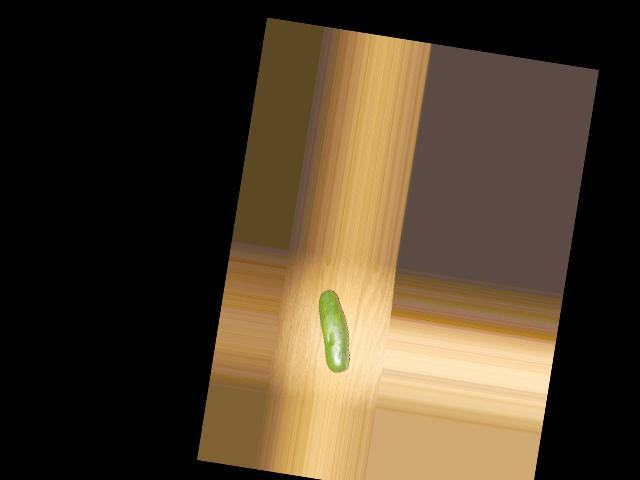cucumber: (309, 288, 360, 373)
